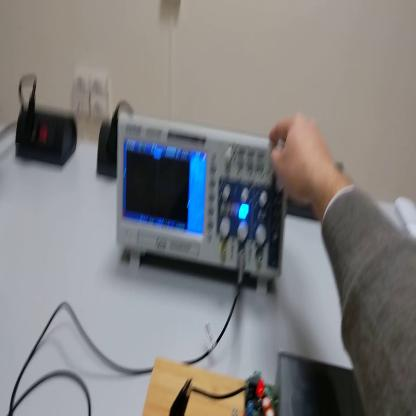hand: (269, 113, 332, 208)
low voltage board: (192, 355, 366, 415)
oscilloscope: (116, 107, 285, 308)
socket: (18, 103, 79, 172), (98, 117, 117, 176)
working area: (143, 356, 277, 415)
